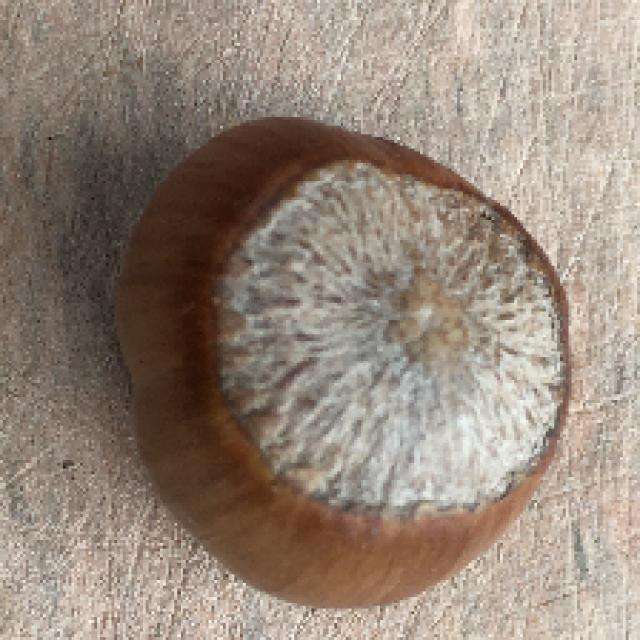DamagedHazelnut: (110, 124, 576, 608)
